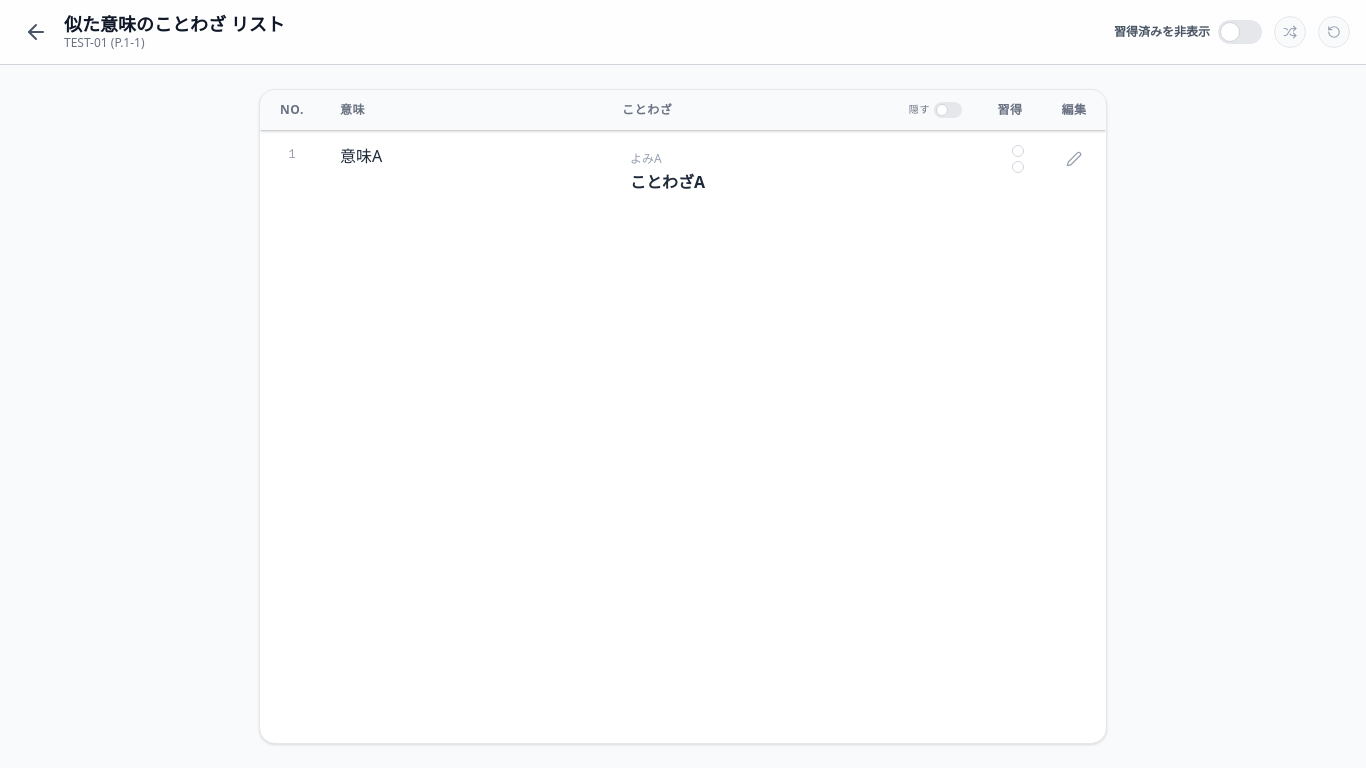
Test case: WordList › ことわざグループ編集では「ふりがな」入力が表示される
The width and height of the screenshot is (1366, 768).
Expected: the text "ことわざA" is shown, [630,171,705,193]
Click the button with class "lucide-pen": (1074,159) [1058,143,1090,175]
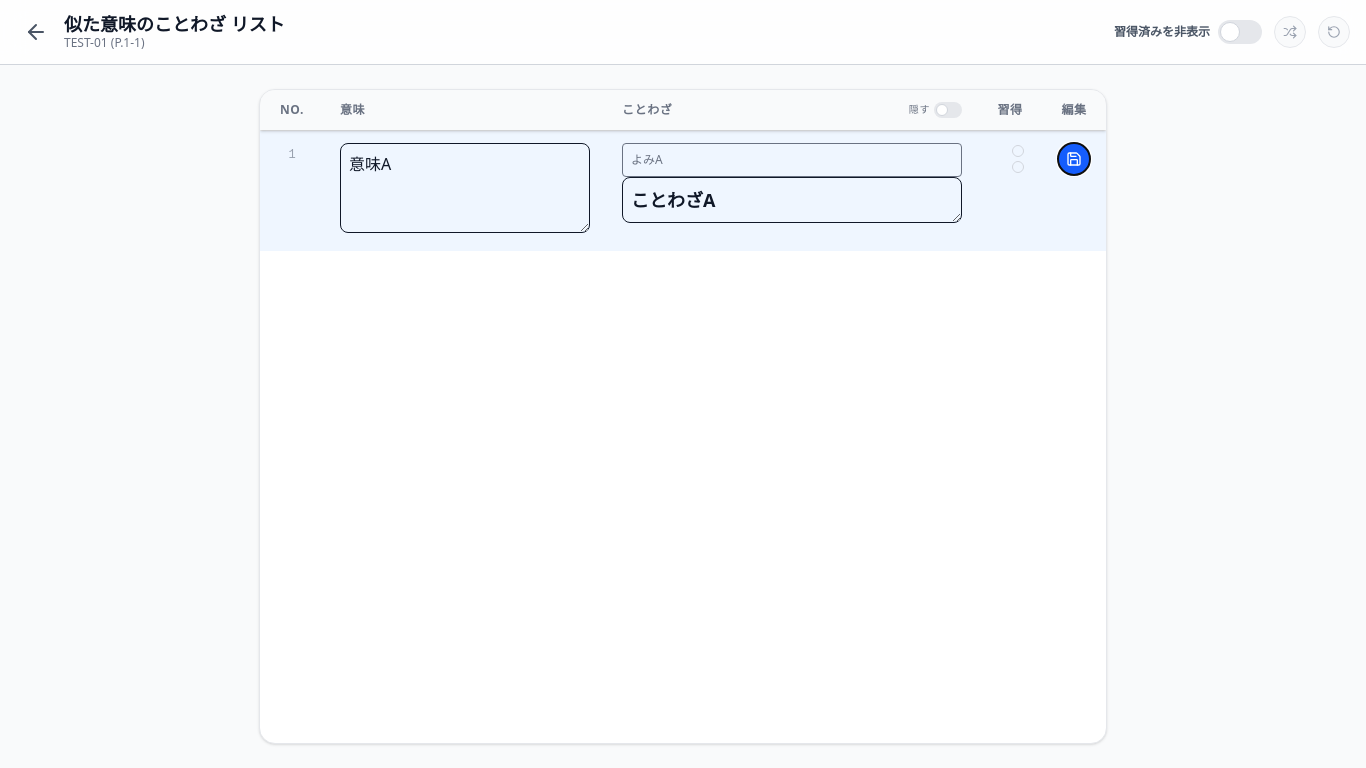
Expected: the icon with class "lucide-save" is shown, [1066,151,1082,167]
Expected: the field showing "よみA" is shown, [622,143,962,177]
